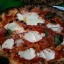pizza: (1, 4, 64, 63)
